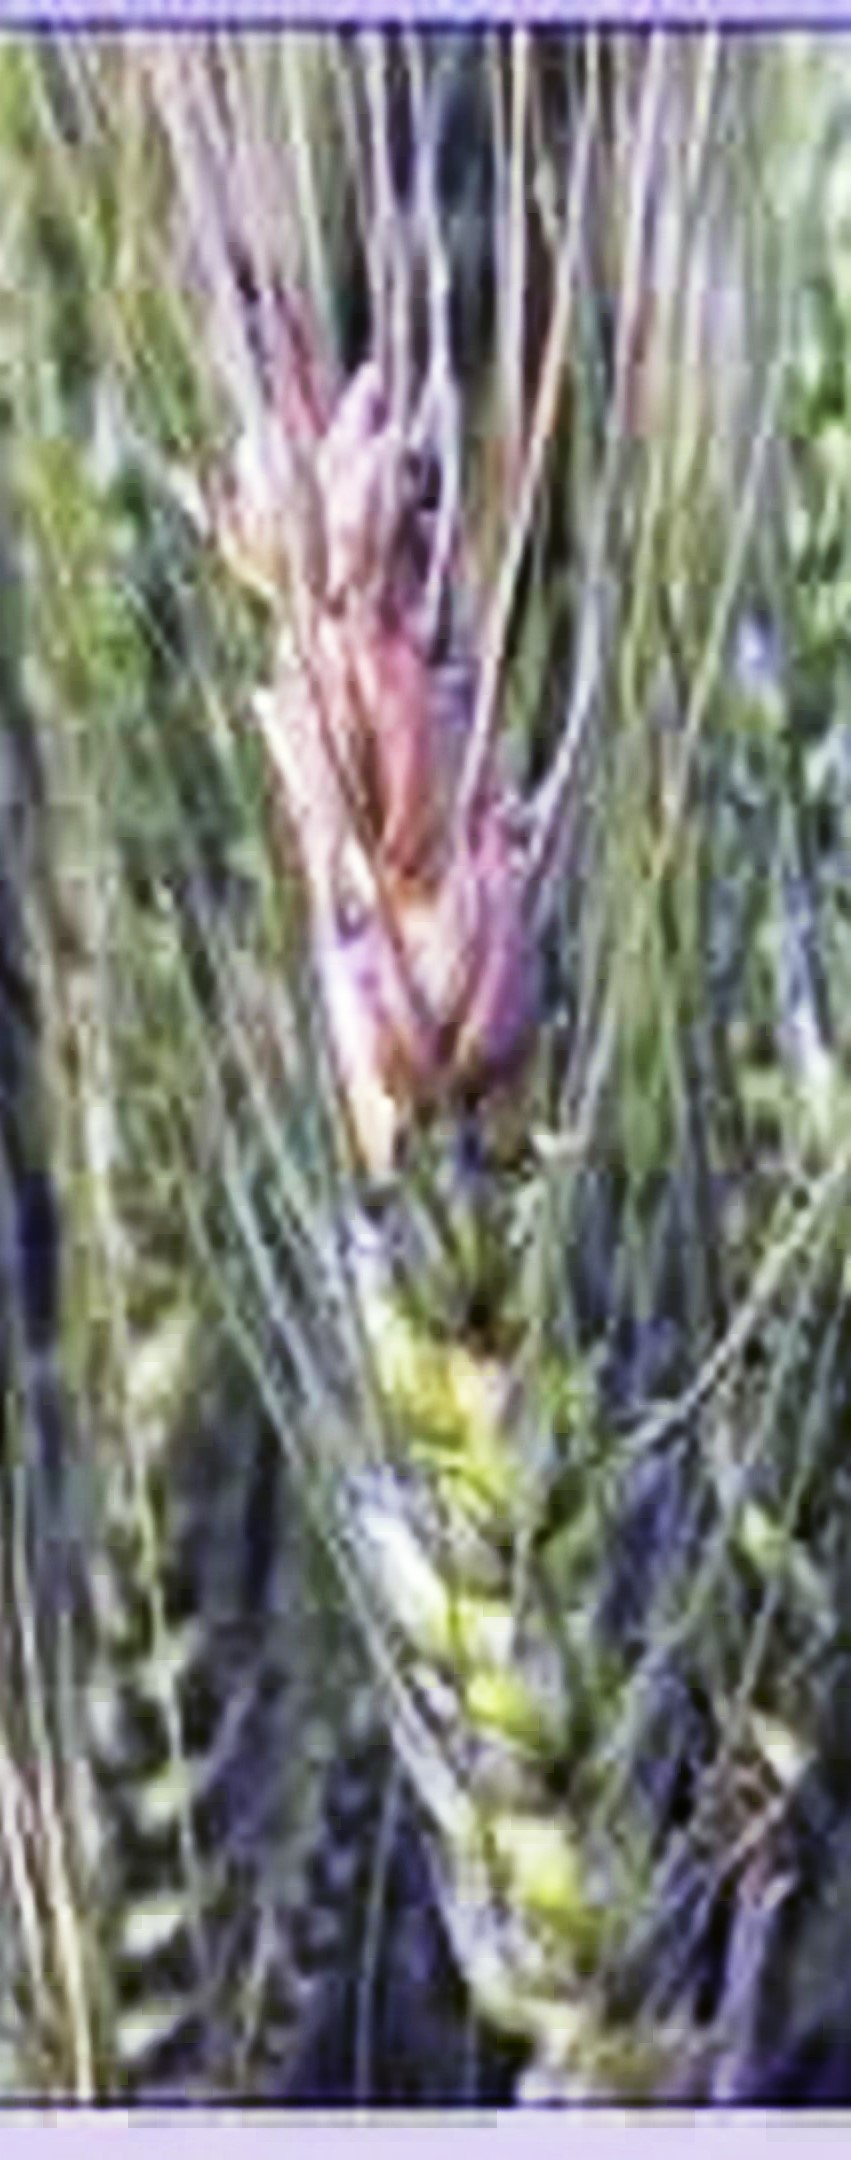Wheat scab: (147, 313, 726, 1975)
